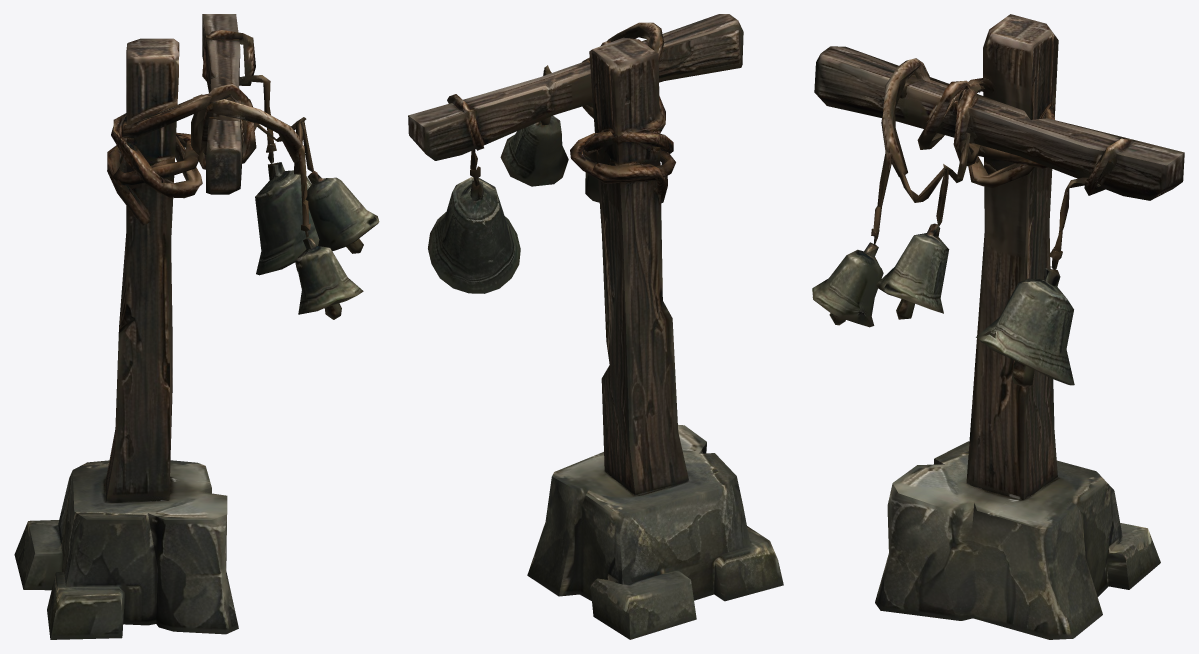
File: act1_kit_v1_bell_post.glb
3 renders of one model, left to right at view 1: azimuth 30°, elevation 25°; view 2: azimuth 150°, elevation 25°; view 3: azimuth 270°, elevation 25°, orthographic. The views are drawn at different scales.
Visible parts, largest first — view 1: A13_4_bell_post; view 2: A13_4_bell_post; view 3: A13_4_bell_post.
Boxes of the visible parts, left/top/right/bottom form: A13_4_bell_post: left=14, top=14, right=379, bottom=639; A13_4_bell_post: left=408, top=14, right=783, bottom=639; A13_4_bell_post: left=812, top=14, right=1184, bottom=639.
Bounding box in the file's own units: 0.6301 × 1 × 0.5918.
1 material, 1 textured.
